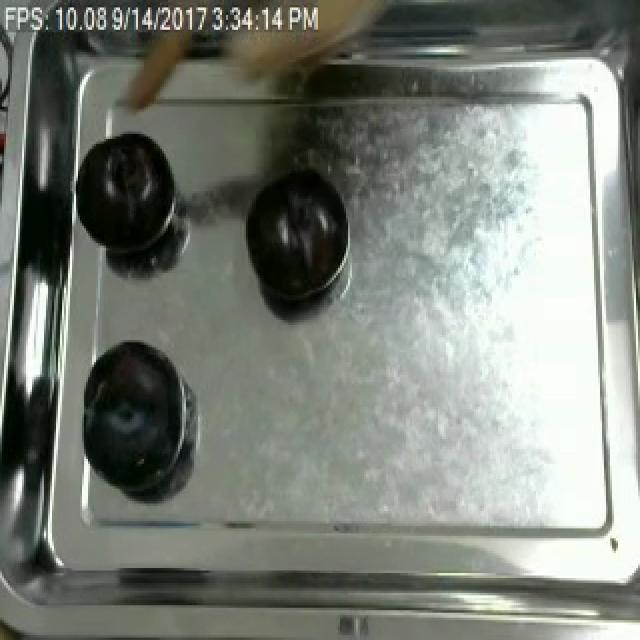Fruit: (82, 332, 192, 492), (240, 169, 350, 310), (76, 127, 182, 266)
